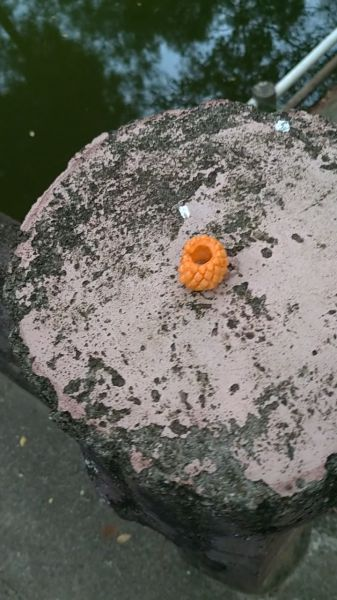eggs: (173, 232, 233, 292)
